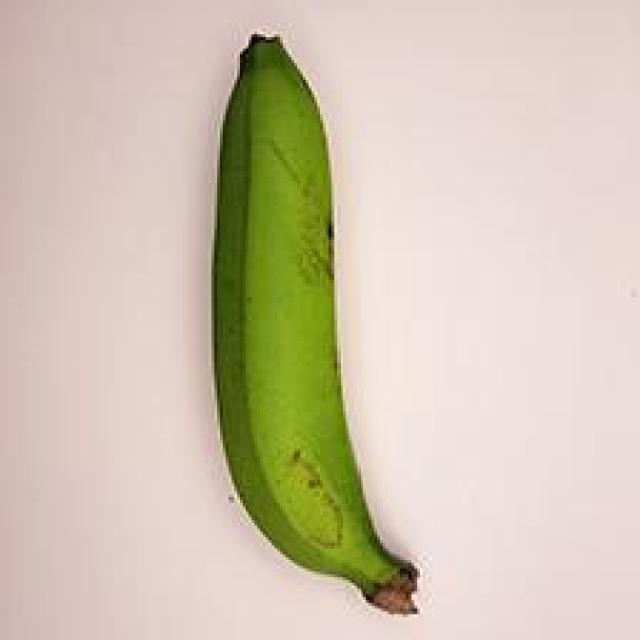Raw: (170, 11, 453, 636)
